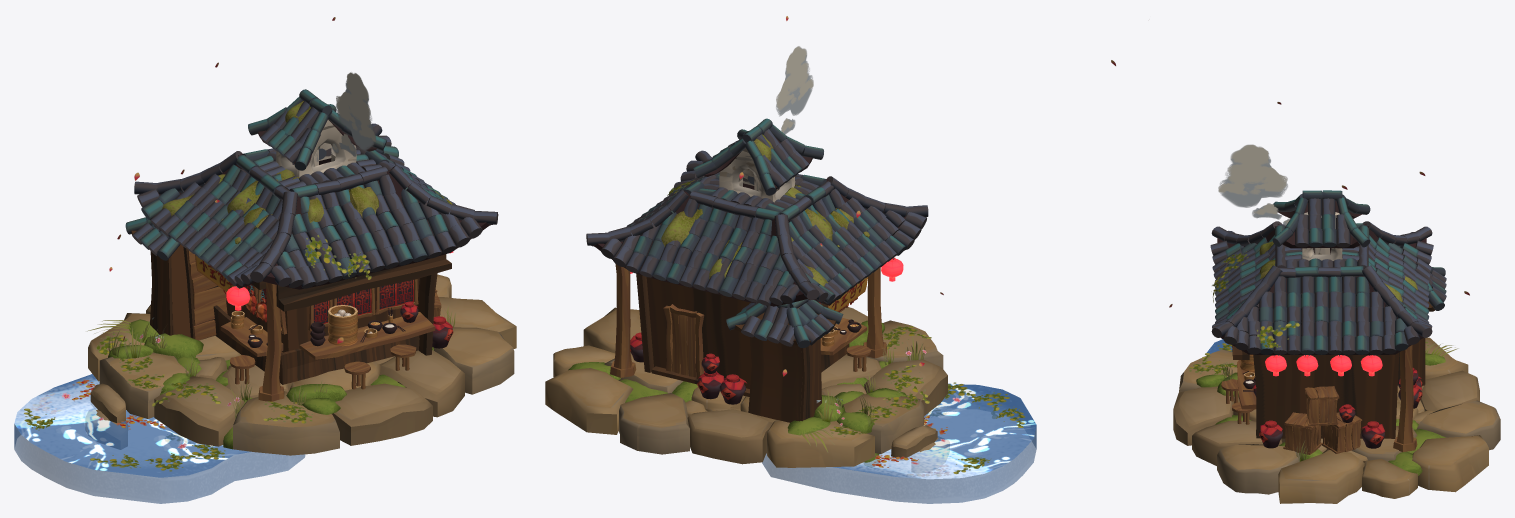
File: bao.gltf
The picture shows the model from 3 angles, left to right: view 1: azimuth 30°, elevation 25°; view 2: azimuth 150°, elevation 25°; view 3: azimuth 270°, elevation 25°; orthographic projection. The views are drawn at different scales.
Parts seen in each view (by area): view 1: House_Material #2_0, Plants, Smoke; view 2: House_Material #2_0, Plants, Smoke; view 3: House_Material #2_0, Plants, Smoke.
Boxes of the visible parts, left/top/right/bottom form: House_Material #2_0: left=86, top=89, right=516, bottom=455; Plants: left=14, top=17, right=455, bottom=503; Smoke: left=330, top=72, right=376, bottom=156; House_Material #2_0: left=545, top=118, right=949, bottom=472; Plants: left=568, top=16, right=1115, bottom=503; Smoke: left=776, top=46, right=813, bottom=134; House_Material #2_0: left=1173, top=190, right=1500, bottom=503; Plants: left=1169, top=102, right=1469, bottom=475; Smoke: left=1218, top=144, right=1289, bottom=225.
Size of the model in its own units: 162 by 137 by 124.
Materials: 3 (3 with a texture image).
